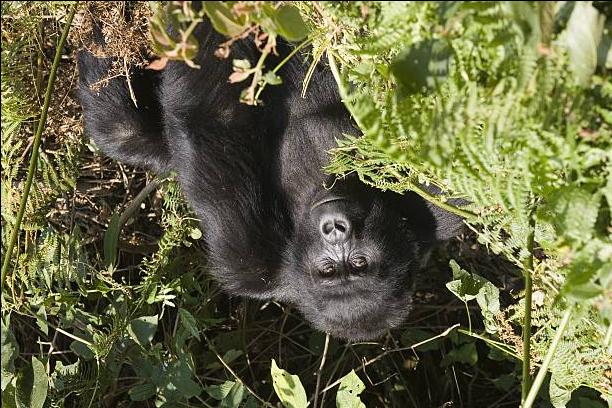goriile_montagne: (156, 30, 450, 354)
